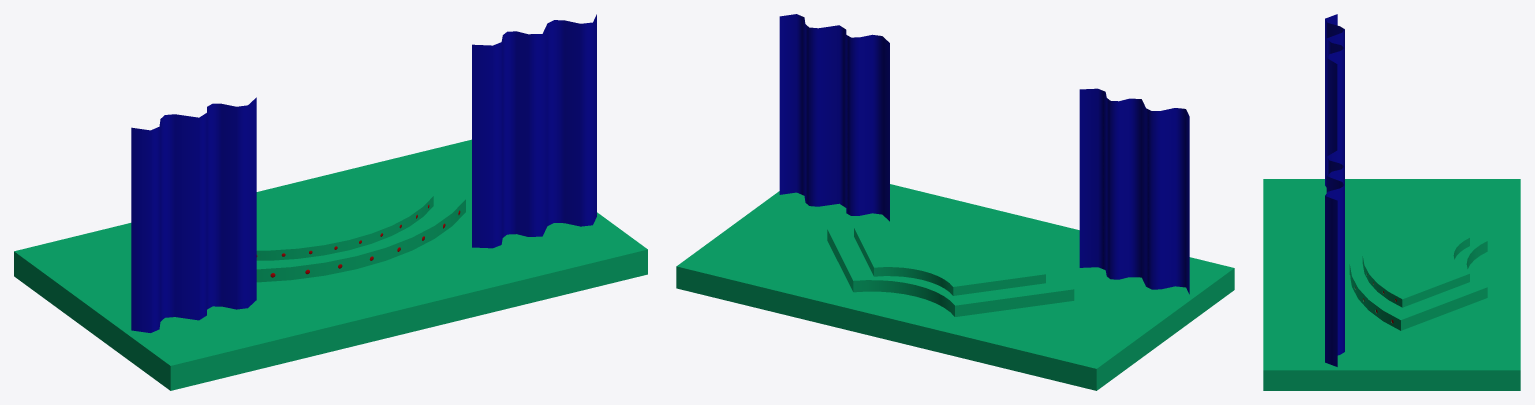
File: Stage.fbx
The picture shows the model from 3 angles, left to right: view 1: azimuth 30°, elevation 25°; view 2: azimuth 150°, elevation 25°; view 3: azimuth 270°, elevation 25°; orthographic projection. The views are drawn at different scales.
Parts seen in each view (by area): view 1: stage_base, curtains, stagesteps; view 2: stage_base, curtains, stagesteps; view 3: stage_base, stagesteps, curtains.
Part boxes in pixels (x1,y1,x2,y2): stage_base: [14, 139, 647, 390]; curtains: [131, 14, 596, 332]; stagesteps: [256, 180, 465, 282]; stage_base: [676, 184, 1234, 390]; curtains: [779, 14, 1189, 294]; stagesteps: [827, 226, 1074, 316]; stage_base: [1263, 179, 1520, 390]; stagesteps: [1349, 208, 1487, 330]; curtains: [1325, 14, 1344, 366].
Bounding box in the file's own units: 164 × 74.95 × 92.96.
